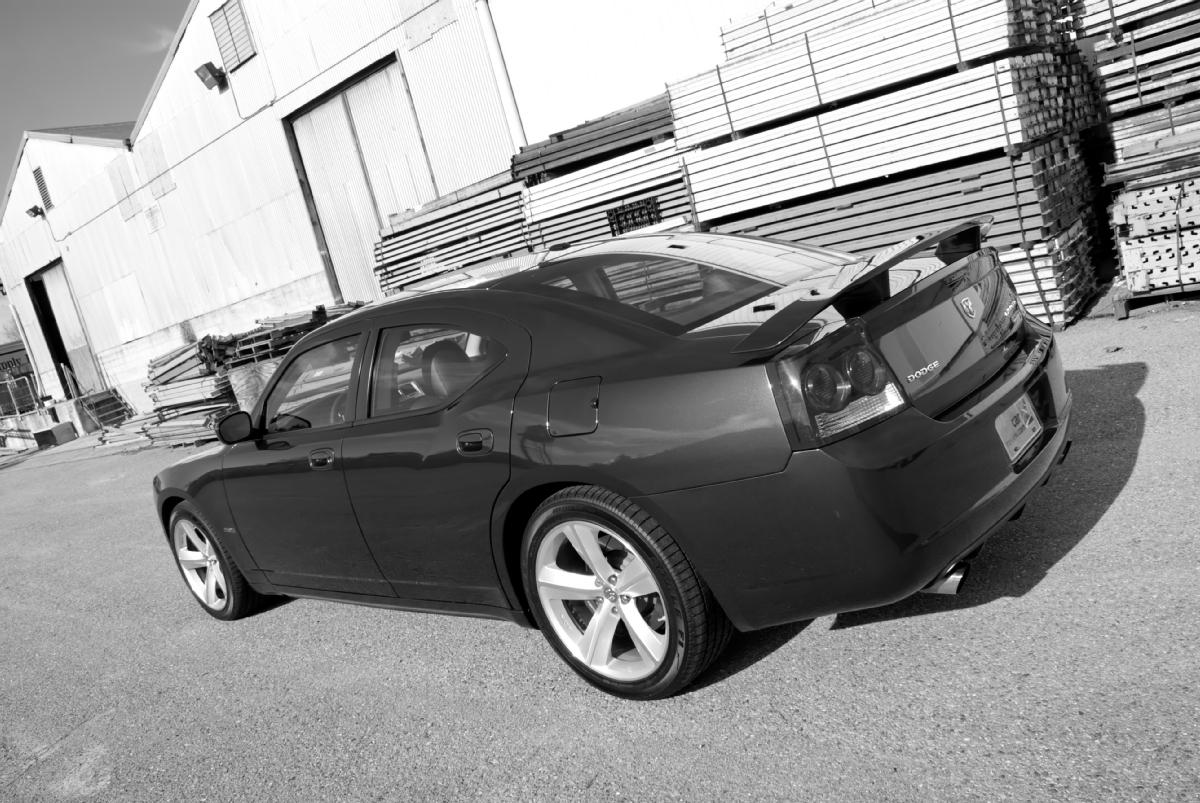car: (150, 212, 1078, 703)
